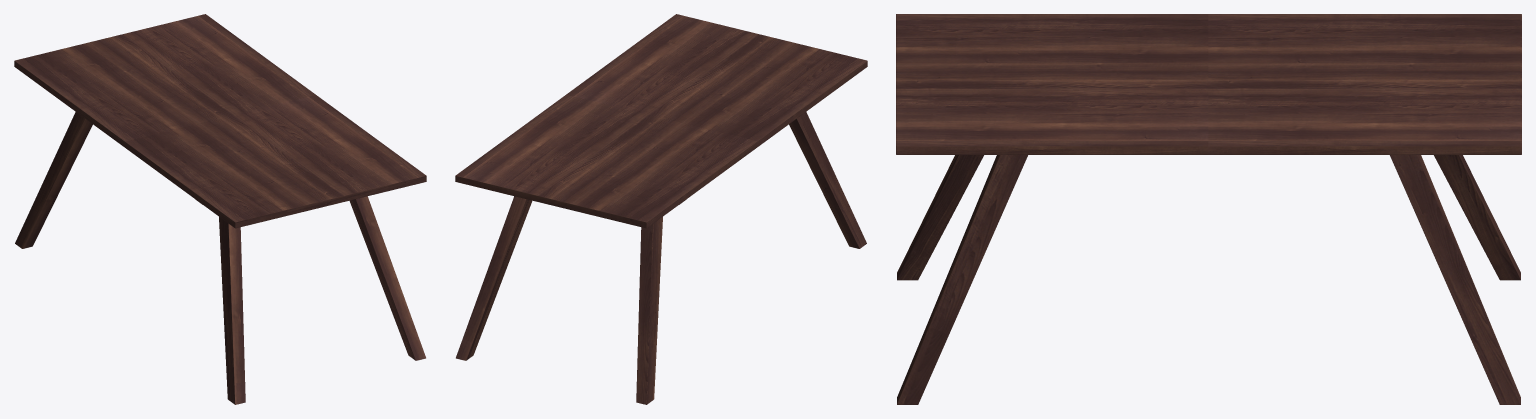
Rendered from SM_Table_2.fbx.
3 views of the same model, side by side, from view 1: azimuth 30°, elevation 25°; view 2: azimuth 150°, elevation 25°; view 3: azimuth 270°, elevation 25° (orthographic). The views are drawn at different scales.
Parts seen in each view (by area): view 1: Table; view 2: Table; view 3: Table.
Part boxes in pixels (x1,y1,x2,y2): Table: (14,14,426,404); Table: (455,14,867,404); Table: (896,14,1521,404).
Size of the model in its own units: 0.7481 by 0.6833 by 1.5.
1 material, 1 textured.
